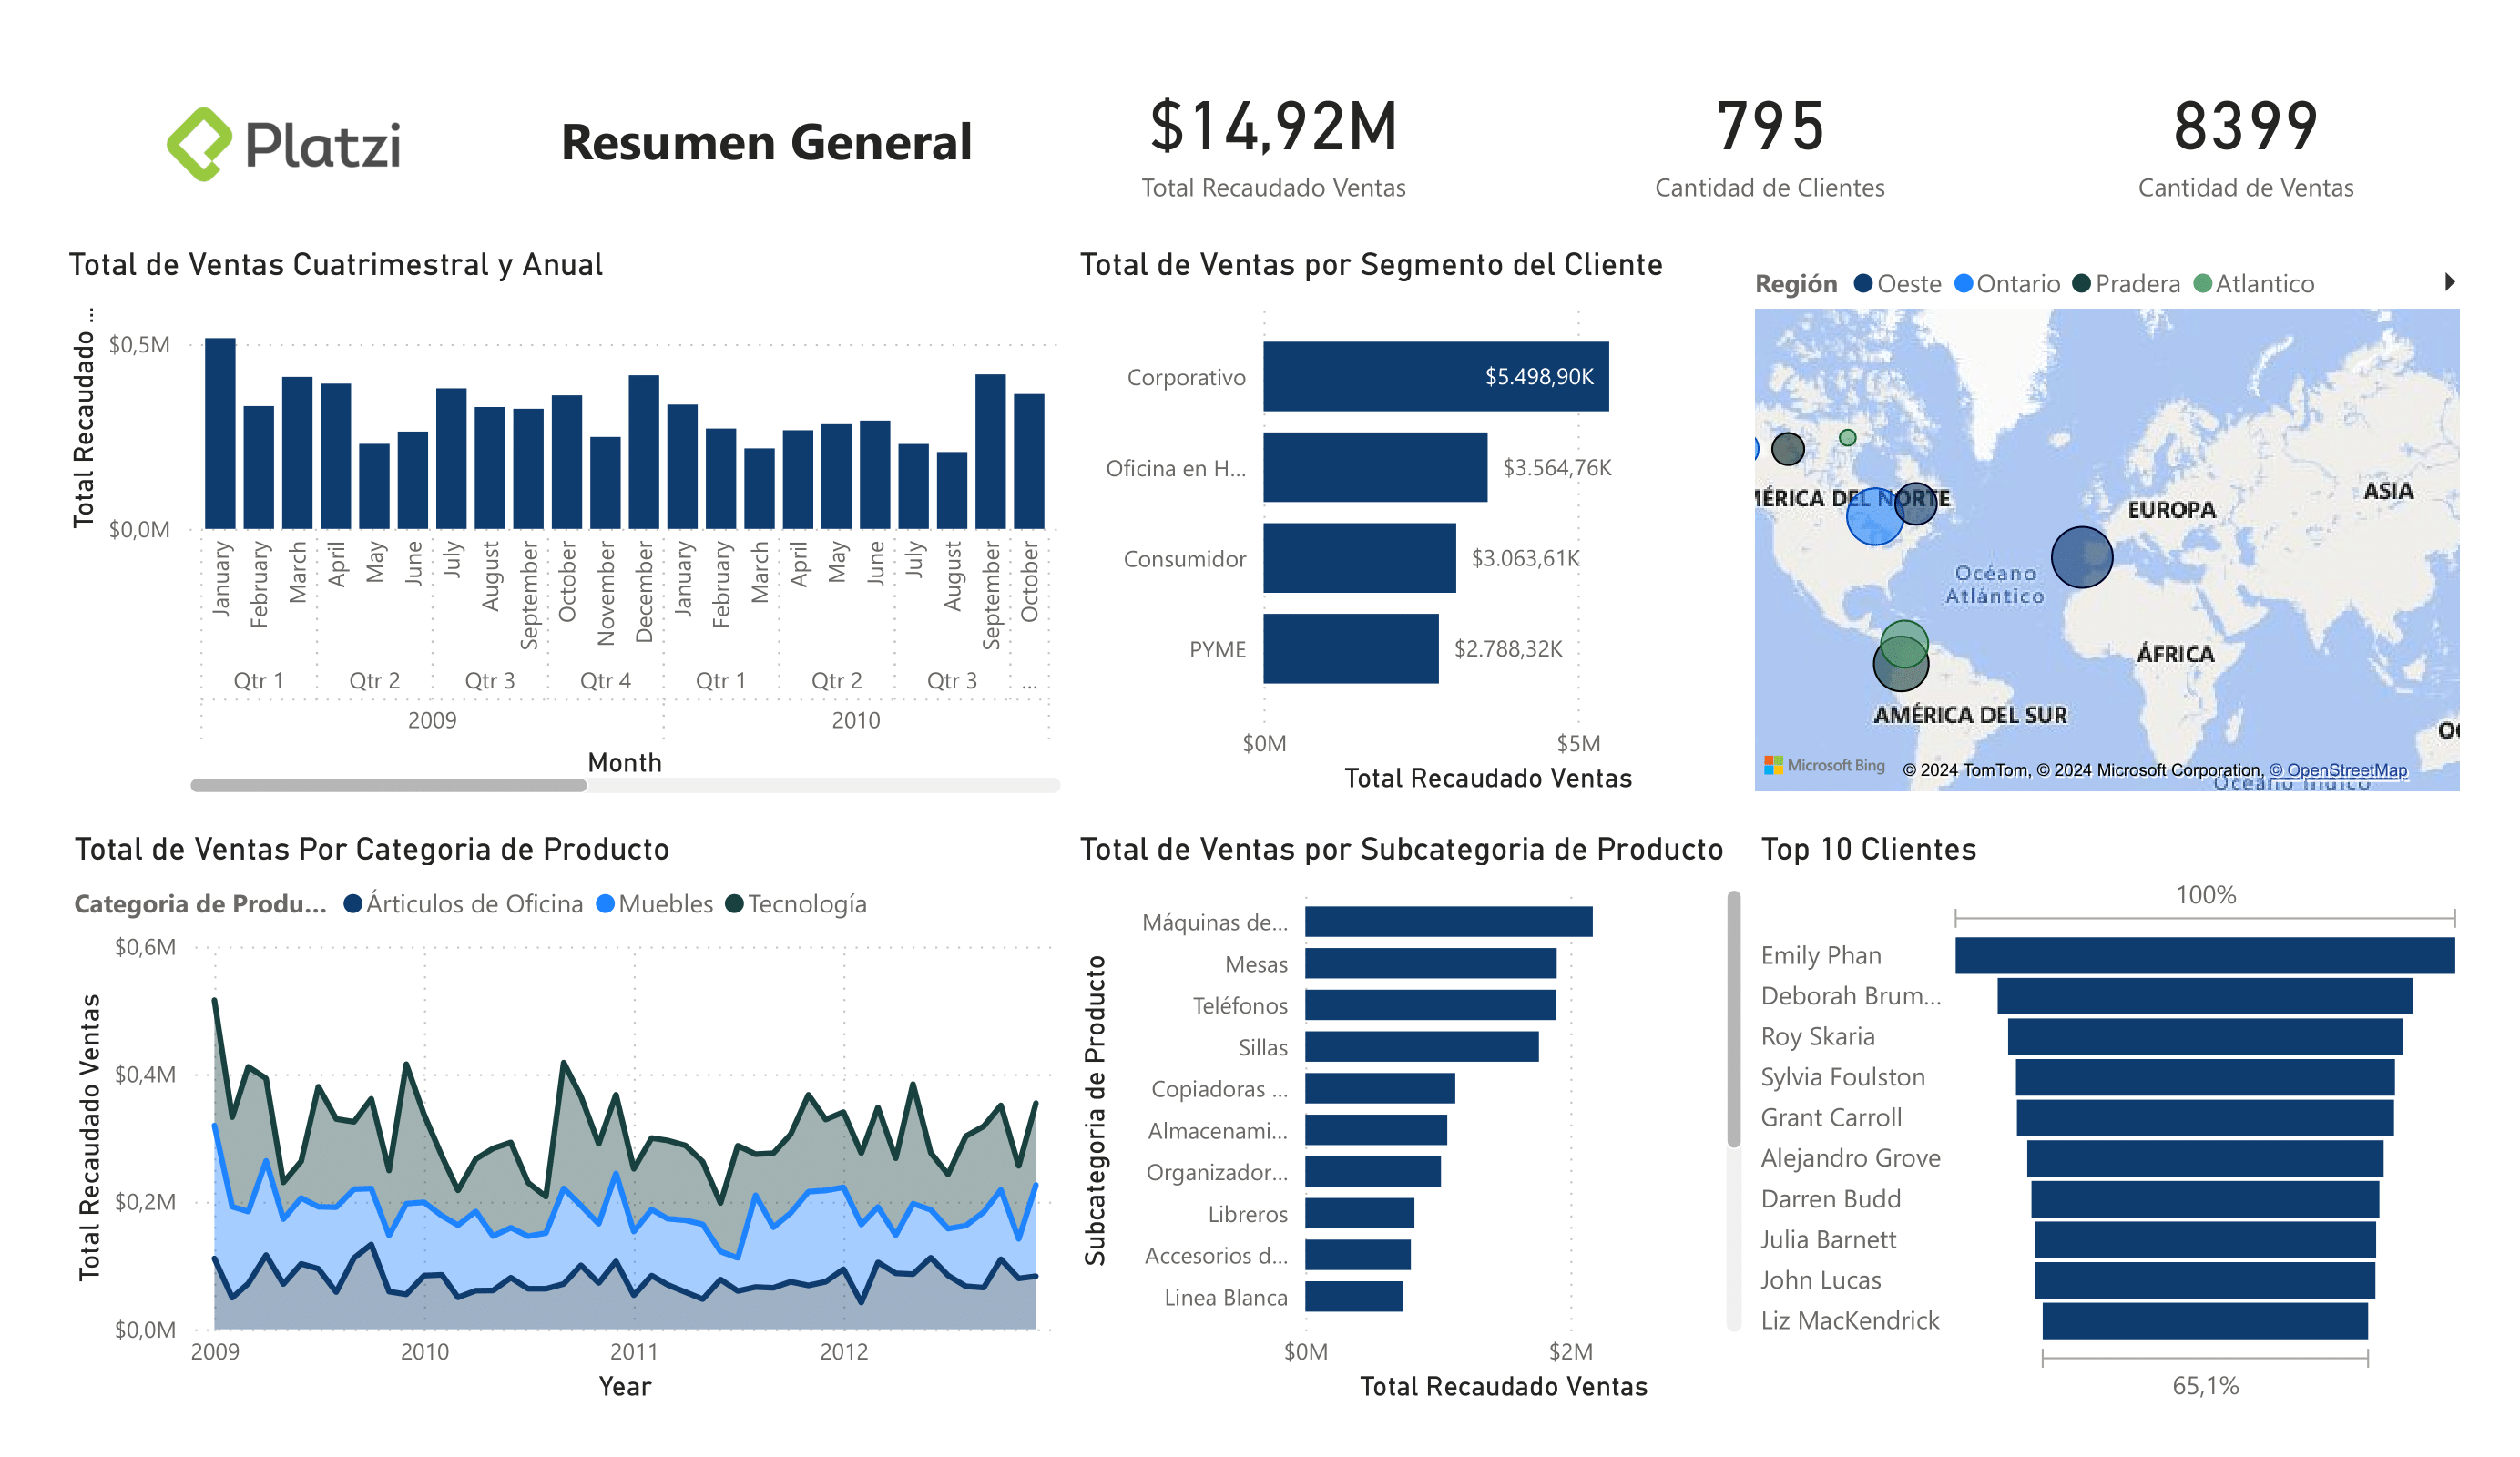

Layout of this report page (visuals, bound fields, positions):
{"tool":"powerbi","page":{"name":"Page 1","canvas":[1280,720],"ordinal":0},"visuals":[{"type":"textbox","box":[240.5,25.9,279.4,79.2],"z":0},{"type":"clusteredColumnChart","title":"Total de Ventas Cuatrimestral y Anual","fields":{"Y":["Medidas.totalventas"],"Category":["calendario.Date.Variation.Date Hierarchy.Year","calendario.Date.Variation.Date Hierarchy.Quarter","calendario.Date.Variation.Date Hierarchy.Month","calendario.Date.Variation.Date Hierarchy.Day"]},"box":[7.2,105.1,532.8,293.8],"z":1000},{"type":"clusteredBarChart","title":"Total de Ventas por Segmento del Cliente","fields":{"Y":["Medidas.totalventas"],"Category":["Ventas.Segmento del Cliente"]},"box":[540,105.1,355.7,293.8],"z":2000},{"type":"map","fields":{"Category":["Region.Región","Region.Provincia"],"Size":["Medidas.totalventas"],"Series":["Region.Región"]},"box":[895.7,105.1,381.6,293.8],"z":3000},{"type":"stackedAreaChart","title":"Total de Ventas Por Categoria de Producto","fields":{"Category":["calendario.Date.Variation.Date Hierarchy.Year","calendario.Date.Variation.Date Hierarchy.Quarter","calendario.Date.Variation.Date Hierarchy.Month","calendario.Date.Variation.Date Hierarchy.Day"],"Y":["Medidas.totalventas"],"Series":["SKU.Categoria de Producto"]},"box":[10.1,413.3,529.9,306.7],"z":4000},{"type":"clusteredBarChart","title":"Total de Ventas por Subcategoria de Producto","fields":{"Y":["Medidas.totalventas"],"Category":["SKU.Subcategoria de Producto"]},"box":[540,413.3,358.6,306.7],"z":5000},{"type":"funnel","title":"Top 10 Clientes","fields":{"Y":["Medidas.totalventas"],"Category":["Ventas.Nombre del Cliente"]},"box":[898.6,413.3,381.6,306.7],"z":6000},{"type":"card","fields":{"Values":["Medidas.totalventas"]},"box":[519.8,0,254.9,93.6],"z":7000},{"type":"card","fields":{"Values":["Medidas.cantclientes"]},"box":[774.7,0,267.8,93.6],"z":8000},{"type":"card","fields":{"Values":["Medidas.cantventas"]},"box":[1042.6,0,234.7,93.6],"z":9000},{"type":"image","box":[41.8,0,167,105.1],"z":10000}]}

Visuals, with their boxes on the page's 1280x720 design canvas (x1, y1, x2, y2). These are canvas units, not pixel positions in the 2520x1457 screenshot, which may show the page scaled, cropped or inside an application window:
textbox: region(240, 26, 520, 105)
"Total de Ventas Cuatrimestral y Anual" clusteredColumnChart: region(7, 105, 540, 399)
"Total de Ventas por Segmento del Cliente" clusteredBarChart: region(540, 105, 896, 399)
map - Region.Región x Region.Provincia: region(896, 105, 1277, 399)
"Total de Ventas Por Categoria de Producto" stackedAreaChart: region(10, 413, 540, 720)
"Total de Ventas por Subcategoria de Producto" clusteredBarChart: region(540, 413, 899, 720)
"Top 10 Clientes" funnel: region(899, 413, 1280, 720)
card - Medidas.totalventas: region(520, 0, 775, 94)
card - Medidas.cantclientes: region(775, 0, 1042, 94)
card - Medidas.cantventas: region(1043, 0, 1277, 94)
image: region(42, 0, 209, 105)
